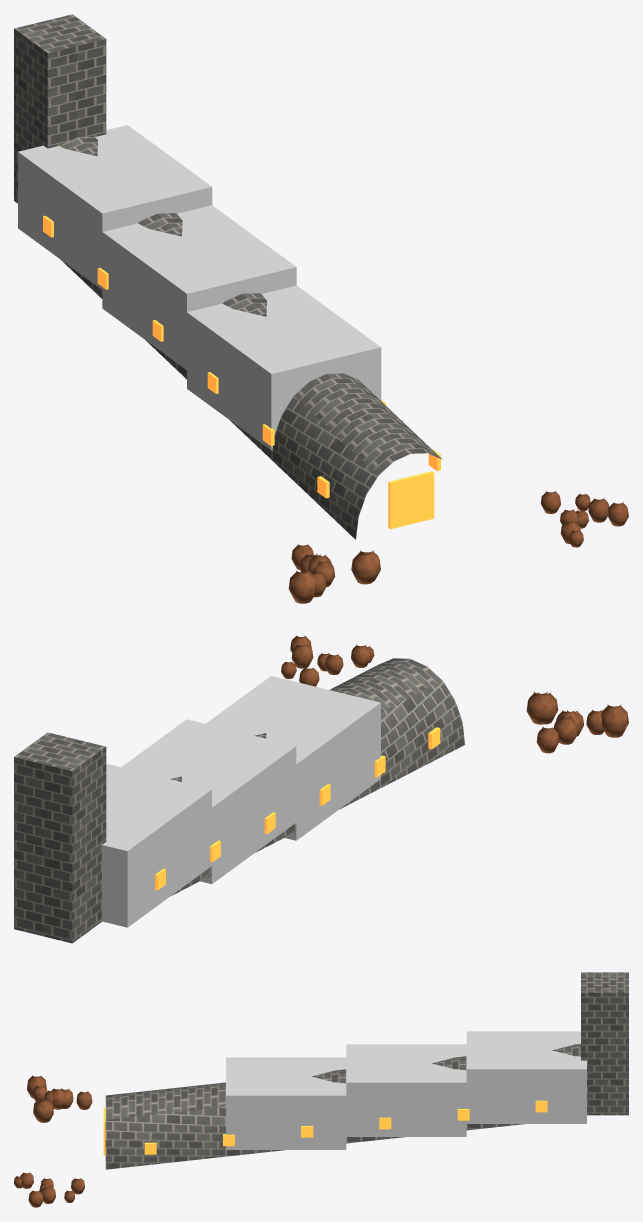
File: pottery_kiln.glb
The picture shows the model from 3 angles, top to bottom: view 1: azimuth 30°, elevation 25°; view 2: azimuth 150°, elevation 25°; view 3: azimuth 270°, elevation 25°; orthographic projection. The views are drawn at different scales.
Parts seen in each view (by area): view 1: Kiln-convcolonly.001, Kiln-convcolonly.002, Kiln-convcolonly.003, KilnVault, KilnChimney, Pots, StokeHoles; view 2: KilnChimney, Kiln-convcolonly.001, Kiln-convcolonly.003, Kiln-convcolonly.002, KilnVault, Pots, StokeHoles; view 3: Kiln-convcolonly.002, Kiln-convcolonly.001, Kiln-convcolonly.003, KilnVault, KilnChimney, Pots, StokeHoles.
Boxes of the visible parts, <box> form: Kiln-convcolonly.001: <box>187,285,381,450</box>; Kiln-convcolonly.002: <box>102,205,296,369</box>; Kiln-convcolonly.003: <box>18,125,212,289</box>; KilnVault: <box>59,136,442,539</box>; KilnChimney: <box>14,14,106,203</box>; Pots: <box>288,491,628,603</box>; StokeHoles: <box>43,215,440,529</box>; KilnChimney: <box>14,732,106,943</box>; Kiln-convcolonly.001: <box>206,676,380,840</box>; Kiln-convcolonly.003: <box>102,763,211,927</box>; Kiln-convcolonly.002: <box>121,719,296,884</box>; KilnVault: <box>170,658,465,895</box>; Pots: <box>281,635,628,753</box>; StokeHoles: <box>155,727,440,890</box>; Kiln-convcolonly.002: <box>346,1044,466,1136</box>; Kiln-convcolonly.001: <box>226,1057,346,1149</box>; Kiln-convcolonly.003: <box>466,1031,586,1123</box>; KilnVault: <box>105,1044,580,1169</box>; KilnChimney: <box>581,972,628,1115</box>; Pots: <box>14,1075,92,1207</box>; StokeHoles: <box>103,1100,547,1155</box>.
Size of what is drawn, in the model's own units: 9.2 by 6.17 by 20.45.
Materials: 3 (2 with a texture image).
